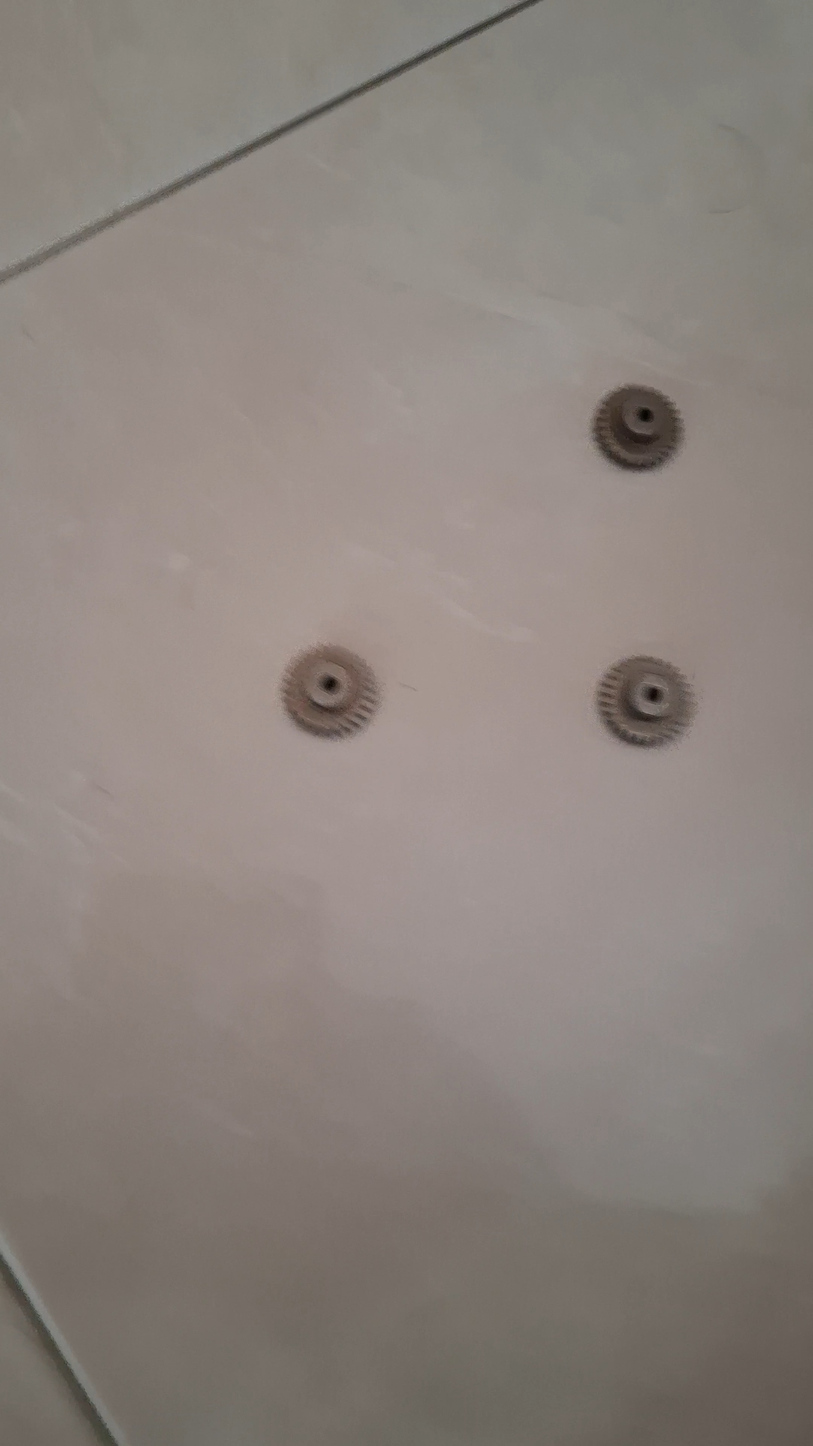spur gear: (282, 645, 379, 737), (597, 657, 694, 746), (593, 386, 682, 469)
